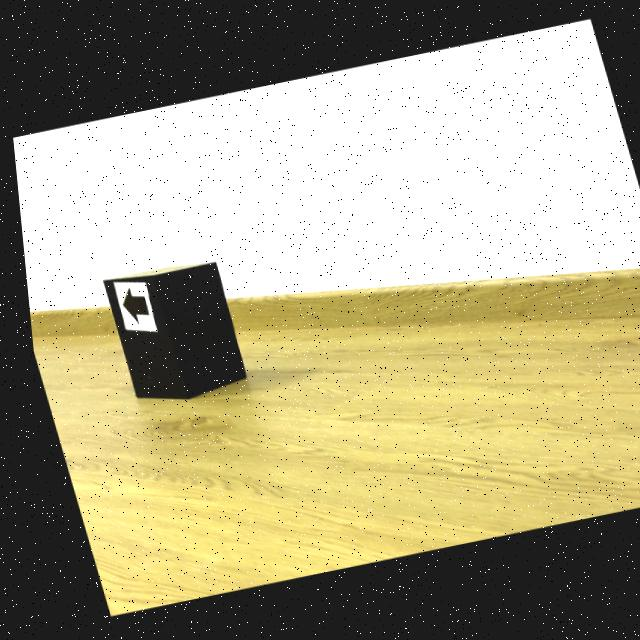LEFT: (116, 289, 143, 323)
